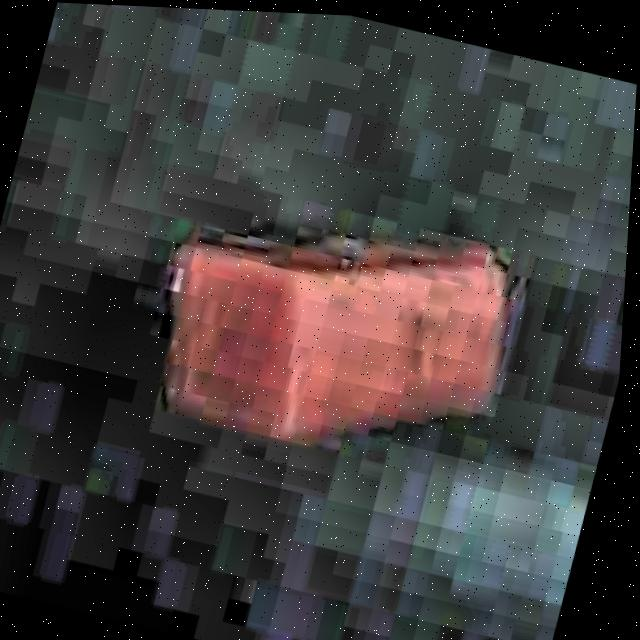bus: (117, 165, 542, 501)
